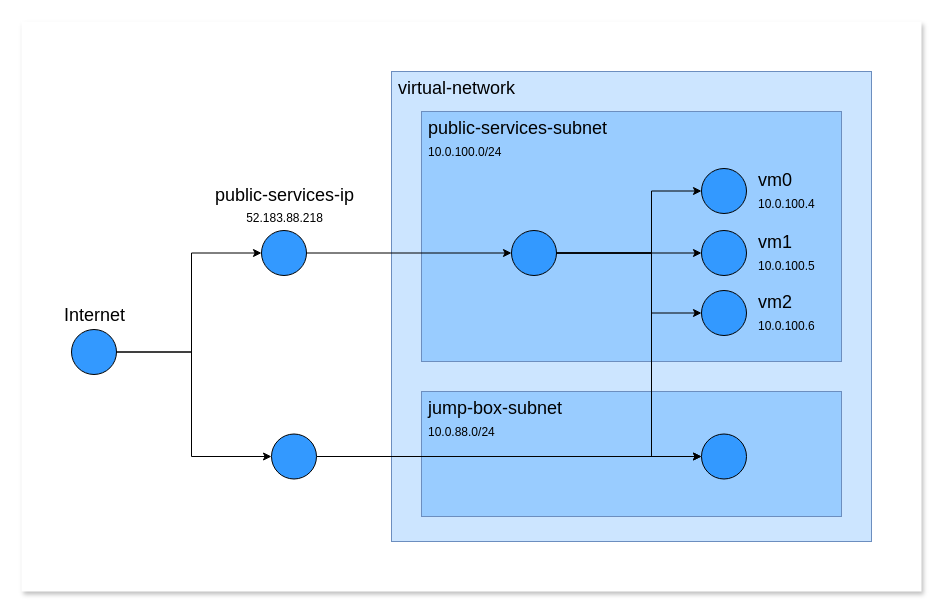
The diagram is 944 pixels wide and 615 high, and some of its shapes have lost their labels. Each missing label, with the centre of its shape:
jump-box 10.0.88.4: the point at 723,456
jump-box-ip 52.156.96.94: the point at 293,456
load-balancer: the point at 533,253
